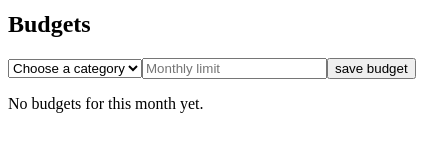
Test: MonthlyBudgetManager › shows an error when saving the budget fails
Select "food" in the dropdown: (75, 68) [8,59,142,78]
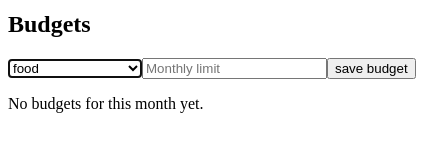
In the number field with placeholder "Monthly limit": (234, 68) [142,58,327,79], type "75000"
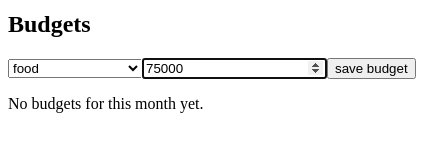
Click the button "save budget": (371, 68) [327,58,416,79]
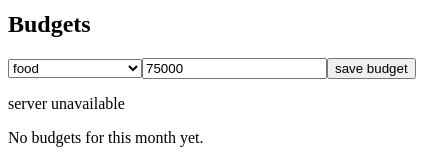
Check: the message reads "server unavailable", box [8,95,125,112]
